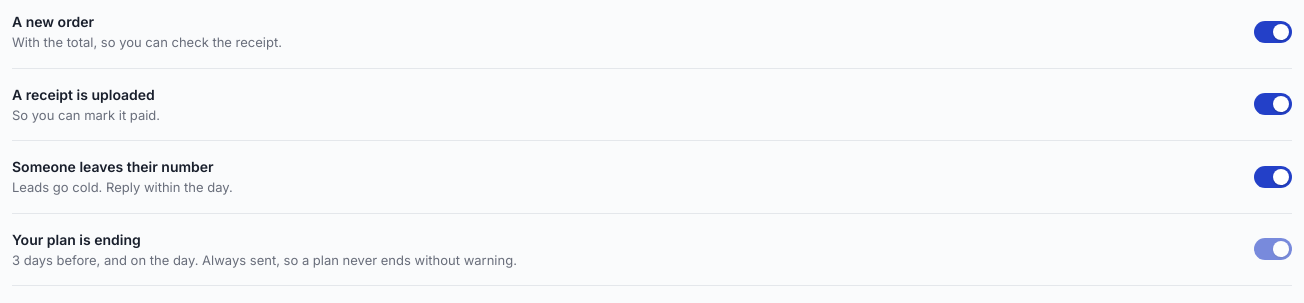
Test case: NotifyForm › turns the lead email off, and says leads still wait in Leads
Click the switch named "Email me when someone leaves their number".
click(1273, 177)  # box [1254,166,1292,188]
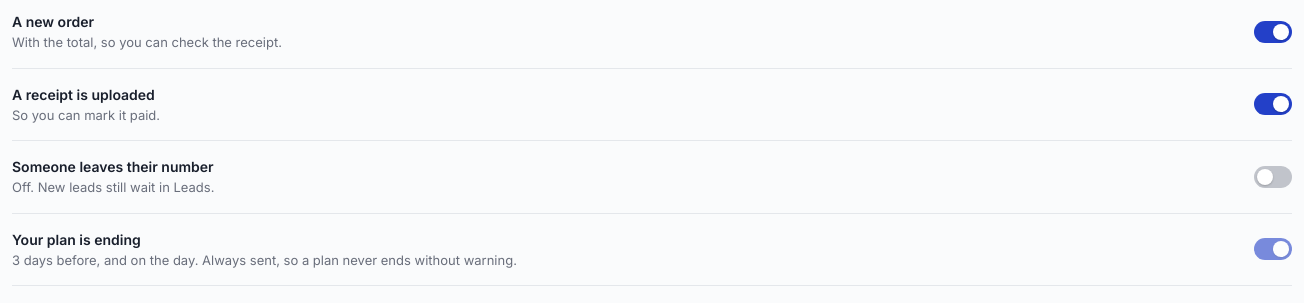
Now the text "Off. New leads still wait in Leads." is shown, box [12,179,214,195]
